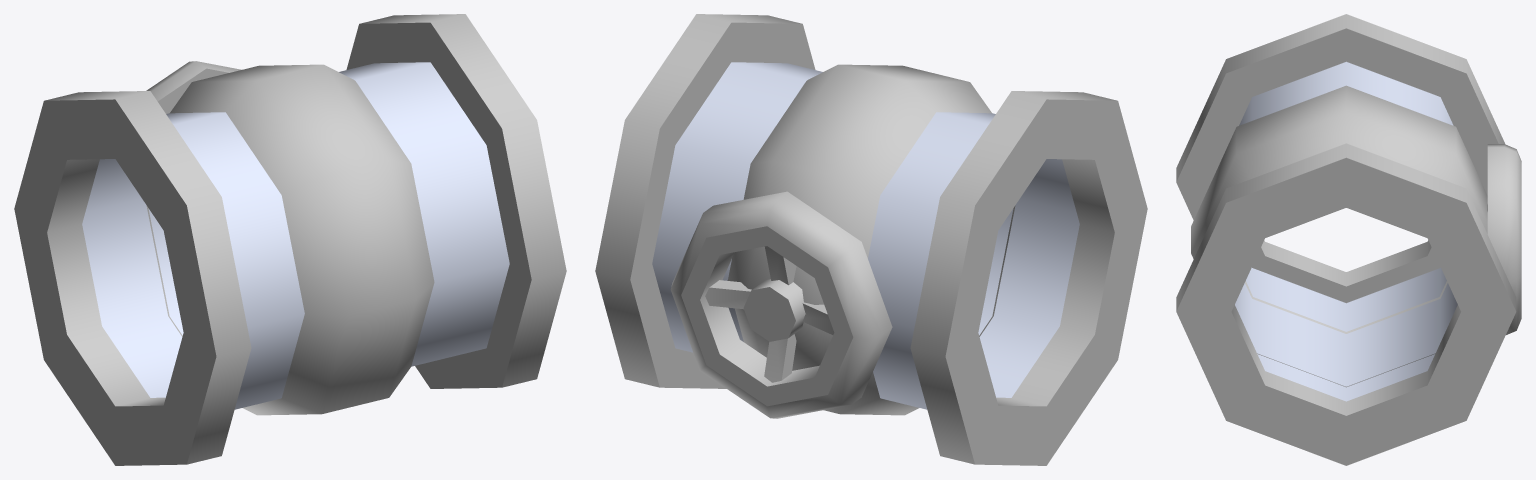
Rendered from pipe-glass-large-valve.obj.
3 views of the same model, side by side, from view 1: azimuth 30°, elevation 25°; view 2: azimuth 150°, elevation 25°; view 3: azimuth 270°, elevation 25° (orthographic). The views are drawn at different scales.
Parts seen in each view (by area): view 1: pipe-glass-large-valve; view 2: pipe-glass-large-valve; view 3: pipe-glass-large-valve.
Part boxes in pixels (x1=…): pipe-glass-large-valve: x1=14, y1=14, x2=566, y2=465; pipe-glass-large-valve: x1=595, y1=14, x2=1147, y2=465; pipe-glass-large-valve: x1=1176, y1=14, x2=1521, y2=465.
Bounding box in the file's own units: 1 × 1 × 1.02.
